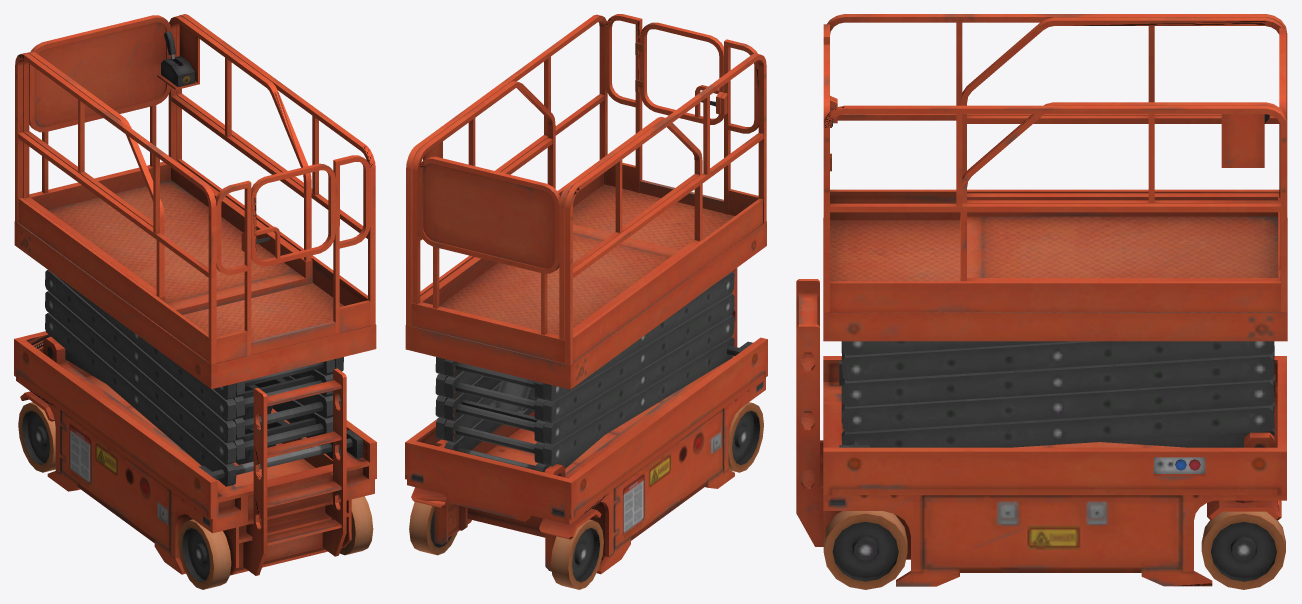
File: GSE_mini_aerialLift_.gltf
3 views of the same model, side by side, from view 1: azimuth 30°, elevation 25°; view 2: azimuth 150°, elevation 25°; view 3: azimuth 270°, elevation 25° (orthographic). The views are drawn at different scales.
Visible parts, largest first — view 1: GSE_mini_aerialLift_; view 2: GSE_mini_aerialLift_; view 3: GSE_mini_aerialLift_.
Part boxes in pixels (box(x1,y1,x2,y2)): GSE_mini_aerialLift_: box(14, 14, 376, 589); GSE_mini_aerialLift_: box(405, 14, 767, 589); GSE_mini_aerialLift_: box(796, 14, 1287, 589).
Size of the model in its own units: 1.05 by 2.46 by 2.27.
1 material, 1 textured.
